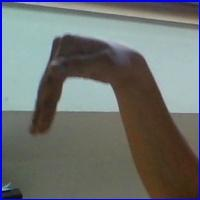A: (23, 31, 161, 145)
